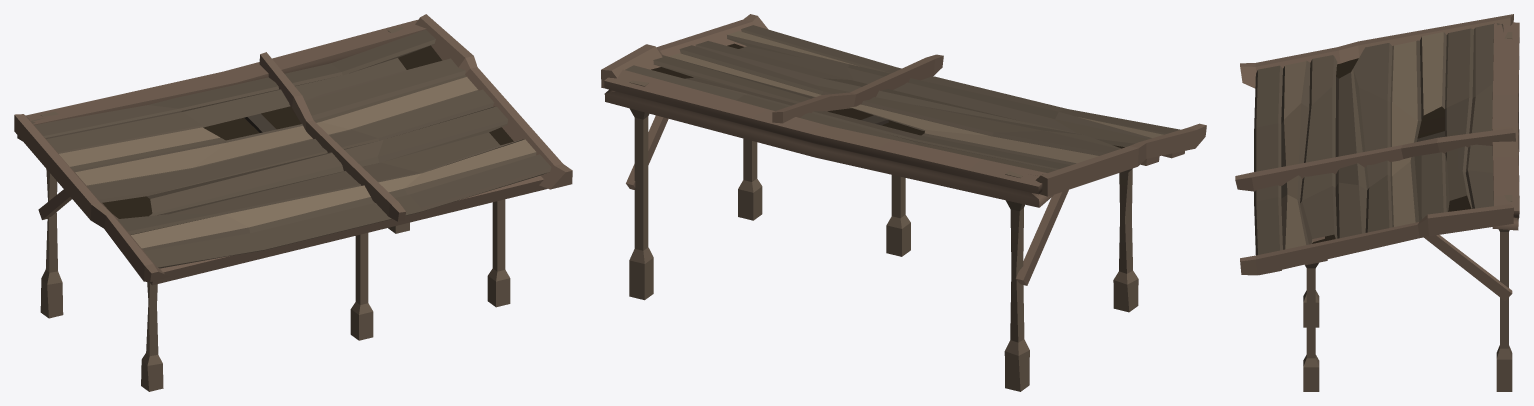
Rendered from SM_Bld_Shanty_SideAttachment_04.glb.
The picture shows the model from 3 angles, left to right: view 1: azimuth 30°, elevation 25°; view 2: azimuth 150°, elevation 25°; view 3: azimuth 270°, elevation 25°; orthographic projection. The views are drawn at different scales.
Visible parts, largest first — view 1: SM_Bld_Shanty_SideAttachment_04; view 2: SM_Bld_Shanty_SideAttachment_04; view 3: SM_Bld_Shanty_SideAttachment_04.
Part boxes in pixels (<box>): SM_Bld_Shanty_SideAttachment_04: <box>14,14,572,391</box>; SM_Bld_Shanty_SideAttachment_04: <box>601,14,1206,391</box>; SM_Bld_Shanty_SideAttachment_04: <box>1235,14,1519,391</box>.
Size of the model in its own units: 0.0558 by 0.0259 by 0.0339.
